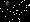person: (4, 3, 13, 16), (15, 3, 21, 15)
